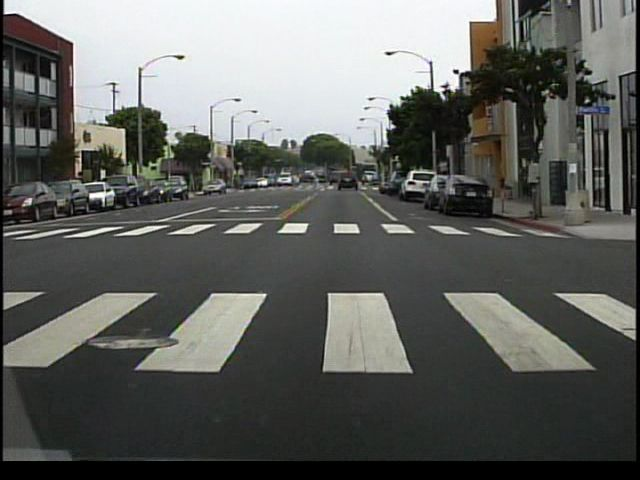car: (440, 174, 494, 217), (1, 180, 56, 222), (54, 179, 91, 213), (396, 170, 432, 202), (90, 179, 114, 211), (115, 173, 137, 207), (336, 169, 361, 190), (138, 180, 157, 203), (173, 174, 189, 198), (202, 178, 223, 193), (275, 171, 296, 186)
striscie pedonali: (3, 289, 638, 378), (1, 220, 553, 241)
